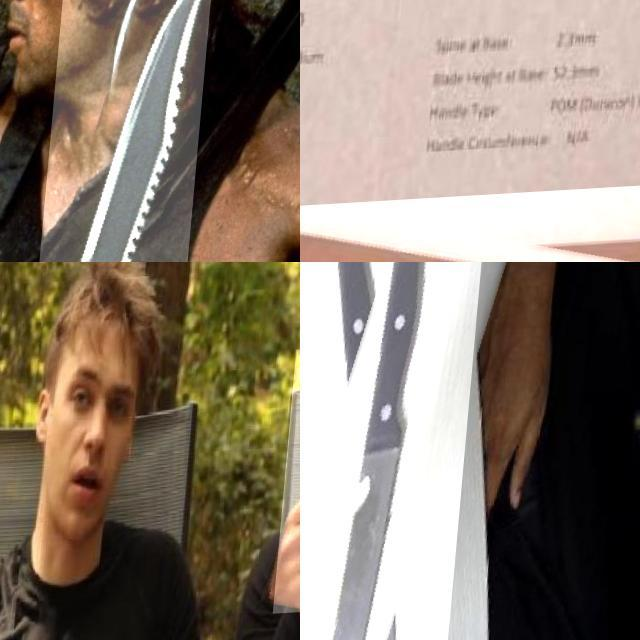-: (300, 262, 486, 640), (33, 0, 217, 262), (300, 191, 640, 262)
